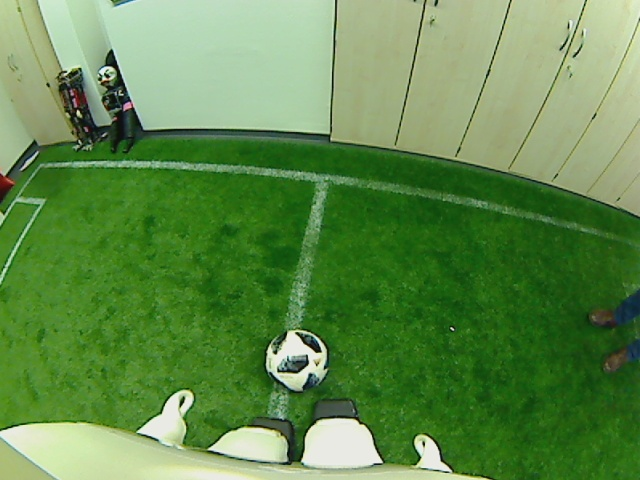ball: (262, 325, 330, 394)
